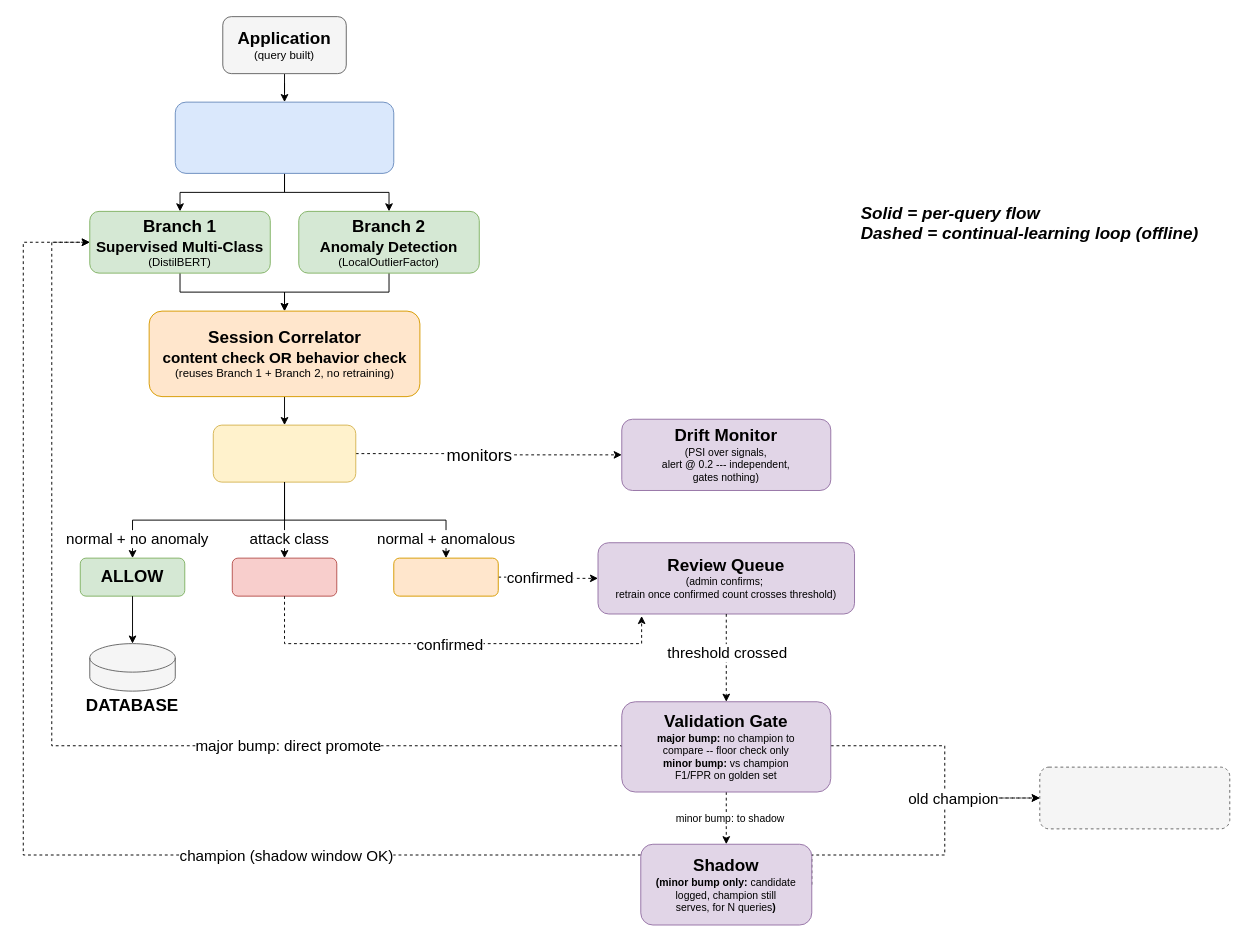
Some shapes in this 1246 by 942 pixel diagram are drawn without their labels. Here are the shapes that lost their labels. From the top down, the centre of each, then its label:
At [284,137]: "Canonicalization (decode, fold case, mark comments)".
At [284,453]: "Decision Engine".
At [284,576]: "BLOCK".
At [445,576]: "OVERKILL".
At [1134,797]: "Retired (superseded model, kept for rollback/audit)".
